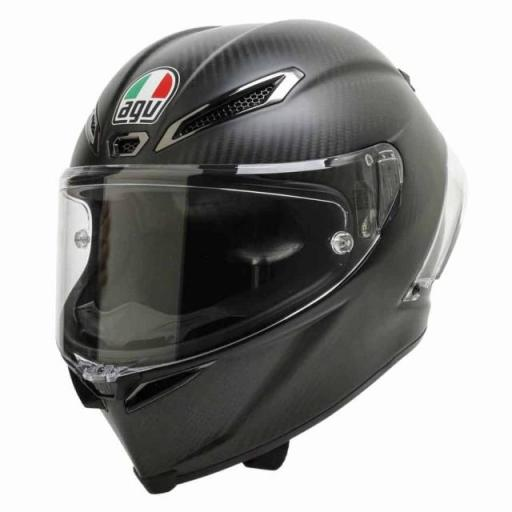Helmet: (58, 21, 463, 492)
